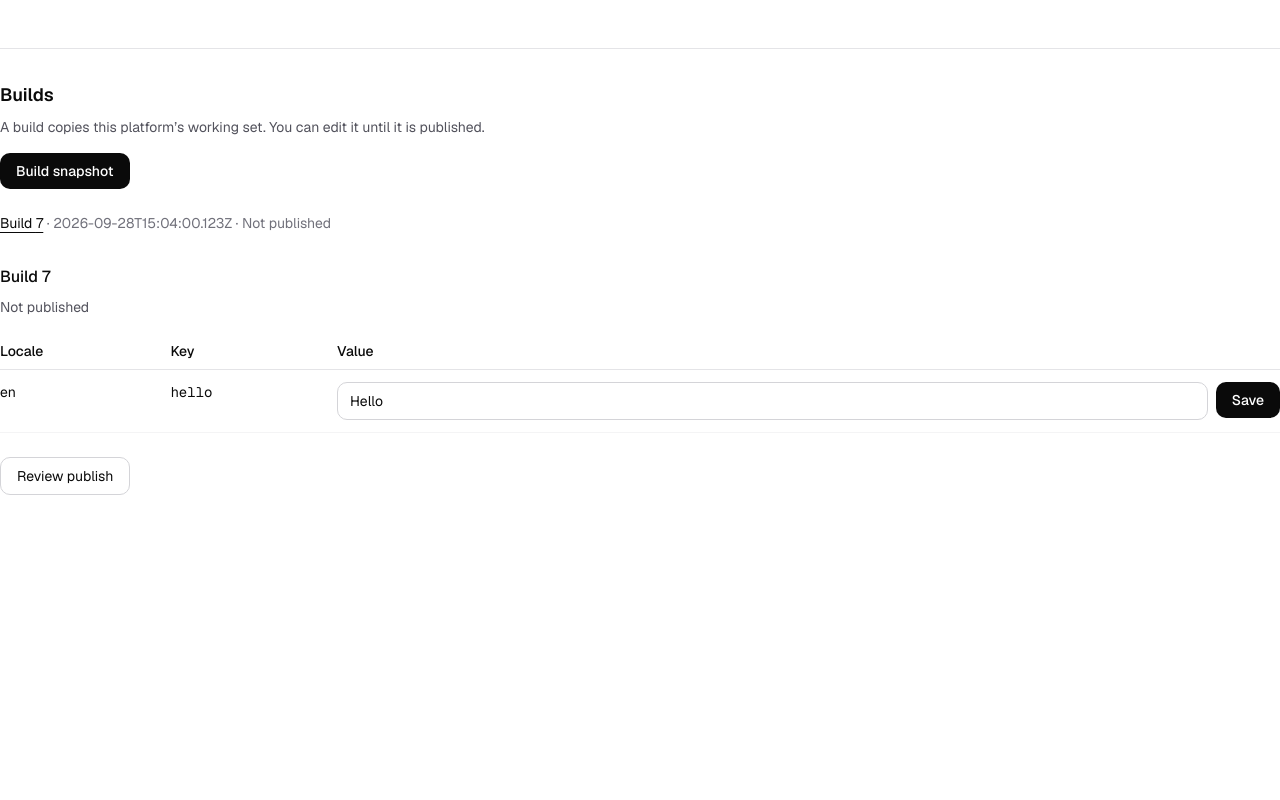
it: import and publish UI › reviews a publish without accepting a checksum, object path, or file body
What coordinates should you click on to do the following:
click the button "Review publish"
I would click on:
 (65, 476)
Its box is [0,457,130,495].
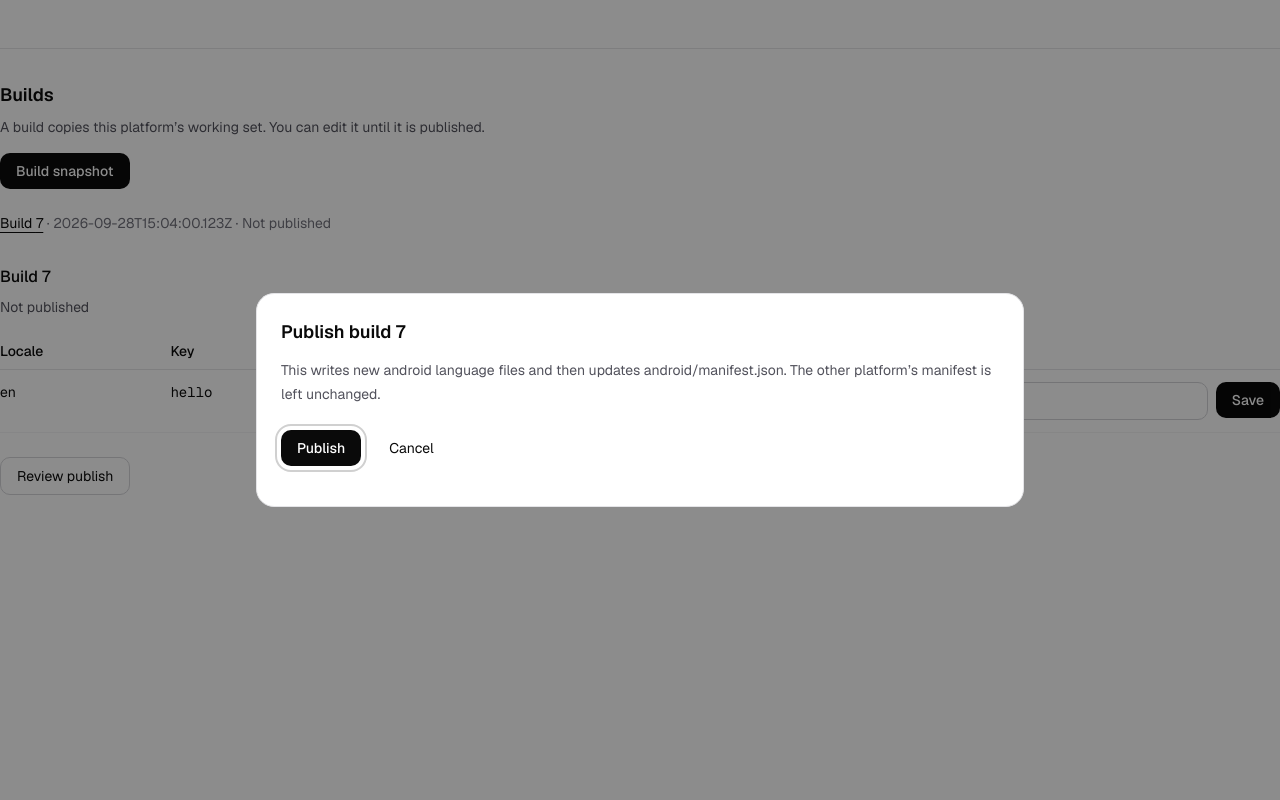
Now the heading "Publish build 7" is shown, box [281,320,405,343]
Now the button "Publish" is shown, box [281,430,361,466]
